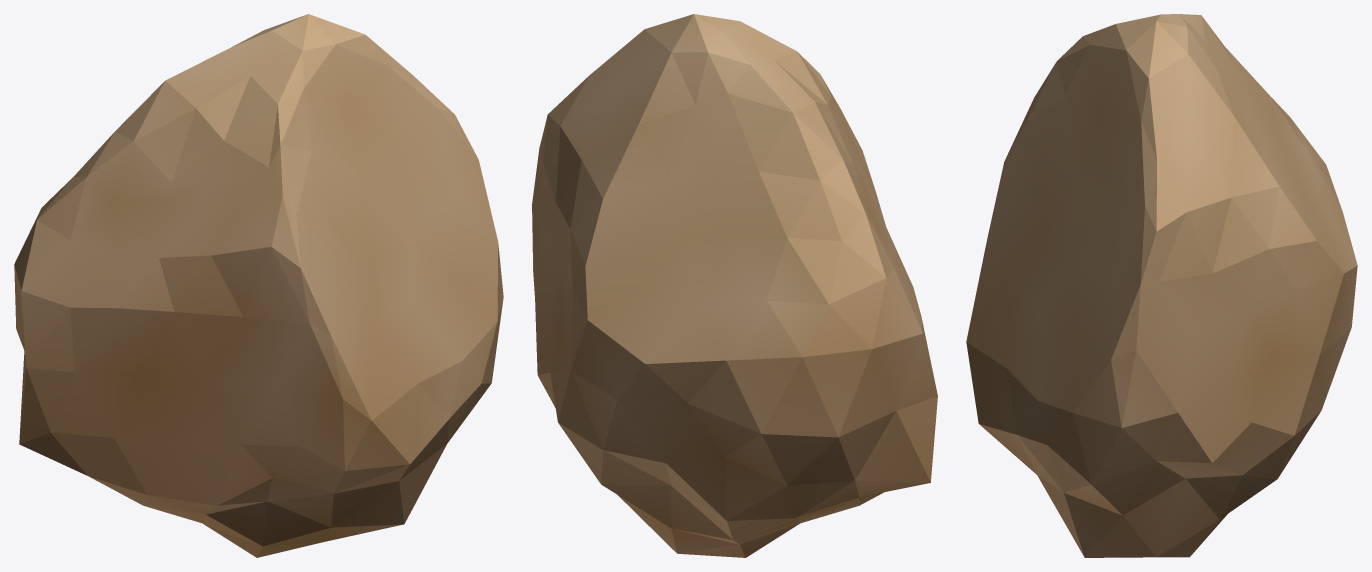
The model's file is world_sandstone_b.fbx.
3 views of the same model, side by side, from view 1: azimuth 30°, elevation 25°; view 2: azimuth 150°, elevation 25°; view 3: azimuth 270°, elevation 25° (orthographic).
Visible parts, largest first — view 1: world_sandstone_b; view 2: world_sandstone_b; view 3: world_sandstone_b.
Part boxes in pixels (x1,y1,x2,y2): world_sandstone_b: (14,14,503,557); world_sandstone_b: (532,14,937,557); world_sandstone_b: (966,14,1357,557).
Bounding box in the file's own units: 512 × 589 × 388.
